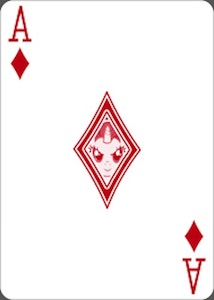AceOfDiamonds: (1, 1, 213, 298)
